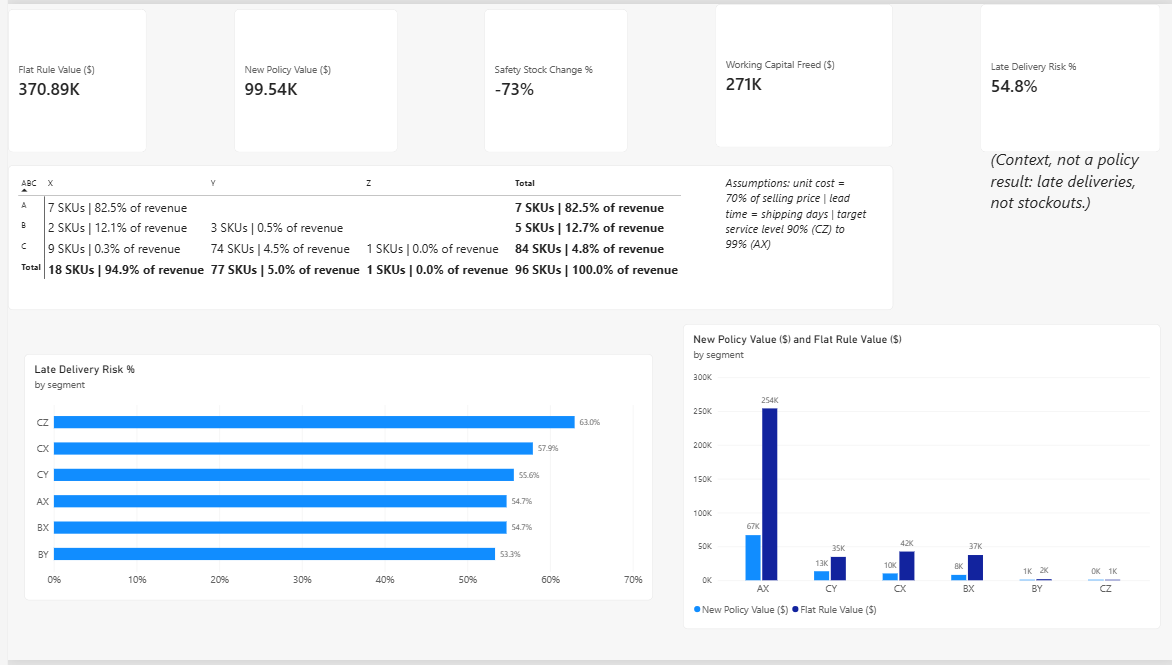

This screenshot's page, from the dashboard's own definition file:
{"tool":"powerbi","page":{"name":"9Box","canvas":[1920,1080],"ordinal":0},"visuals":[{"type":"pivotTable","fields":{"Columns":["policy_by_sku.XYZ"],"Rows":["policy_by_sku.ABC"],"Values":["policy_by_sku.Box Text"]},"box":[0,265.5,1457.3,238.8],"z":0},{"type":"cardVisual","fields":{"Data":["policy_by_sku.Working Capital Freed ($)"]},"box":[1165.5,0,292.3,236.7],"z":1000},{"type":"cardVisual","fields":{"Data":["policy_by_sku.Change %"]},"box":[785.3,8.2,236.7,236.7],"z":2000},{"type":"cardVisual","fields":{"Data":["policy_by_sku.Flat Rule Value ($)"]},"box":[0,8.2,228.5,236.7],"z":3000},{"type":"cardVisual","fields":{"Data":["policy_by_sku.New Policy Value ($)"]},"box":[372,8.2,269.6,236.7],"z":4000},{"type":"clusteredColumnChart","fields":{"Category":["policy_by_sku.segment"],"Y":["policy_by_sku.New Policy Value ($)","policy_by_sku.Flat Rule Value ($)"]},"box":[1111.5,527.4,786.3,502.2],"z":5000},{"type":"cardVisual","fields":{"Data":["policy_by_sku.Late Delivery Risk %"]},"box":[1601.4,0,296.4,244.9],"z":7000},{"type":"textbox","box":[1181.5,282,234.6,185.2],"z":7500},{"type":"clusteredBarChart","fields":{"Category":["policy_by_sku.segment"],"Y":["policy_by_sku.Late Delivery Risk %"]},"box":[26.8,575.8,1035.3,405.5],"z":8000},{"type":"textbox","box":[1617.8,236.7,265.5,137.9],"z":9000}]}

Visuals, with their boxes in screenshot pixels (x1, y1, x2, y2), scaled from the page's 1920x1080 canvas onto the 1172x665 screenshot:
pivotTable - policy_by_sku.XYZ x policy_by_sku.ABC: x1=0, y1=163, x2=890, y2=311
cardVisual - policy_by_sku.Working Capital Freed ($): x1=711, y1=0, x2=890, y2=146
cardVisual - policy_by_sku.Change %: x1=479, y1=5, x2=624, y2=151
cardVisual - policy_by_sku.Flat Rule Value ($): x1=0, y1=5, x2=139, y2=151
cardVisual - policy_by_sku.New Policy Value ($): x1=227, y1=5, x2=392, y2=151
clusteredColumnChart - policy_by_sku.segment x policy_by_sku.New Policy Value ($): x1=678, y1=325, x2=1158, y2=634
cardVisual - policy_by_sku.Late Delivery Risk %: x1=978, y1=0, x2=1158, y2=151
textbox: x1=721, y1=174, x2=864, y2=288
clusteredBarChart - policy_by_sku.segment x policy_by_sku.Late Delivery Risk %: x1=16, y1=355, x2=648, y2=604
textbox: x1=988, y1=146, x2=1150, y2=231
